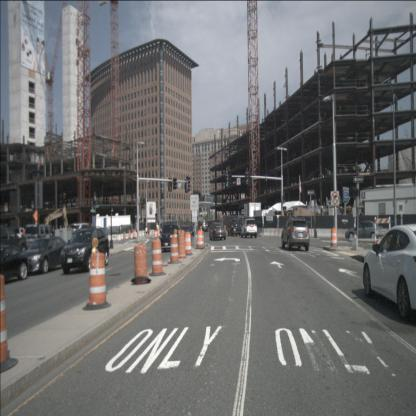human-pedestrian-adult: (147, 224, 150, 238), (145, 226, 148, 238)
movable_object-barrier: (337, 228, 354, 240), (315, 228, 334, 238), (296, 230, 312, 240), (263, 228, 278, 237), (278, 228, 291, 237), (251, 228, 263, 236)
movable_object-trafficcone: (0, 274, 19, 374), (82, 252, 112, 310), (131, 245, 151, 284), (149, 240, 166, 276), (168, 235, 182, 264), (176, 230, 188, 258), (182, 232, 193, 256), (329, 227, 339, 248), (195, 230, 204, 249), (154, 231, 160, 240), (132, 230, 138, 239), (128, 231, 132, 240), (123, 232, 126, 240)
vehicle-car: (362, 224, 416, 322), (60, 227, 110, 274), (22, 236, 70, 274), (0, 245, 29, 283), (281, 218, 310, 252), (24, 224, 56, 250), (345, 221, 384, 242), (0, 227, 27, 255), (158, 224, 184, 252), (69, 223, 95, 245), (241, 218, 257, 238), (209, 222, 226, 240), (228, 219, 242, 236), (180, 225, 192, 241), (187, 224, 195, 236), (200, 222, 208, 232)
vehicle-truck: (10, 227, 26, 243)
